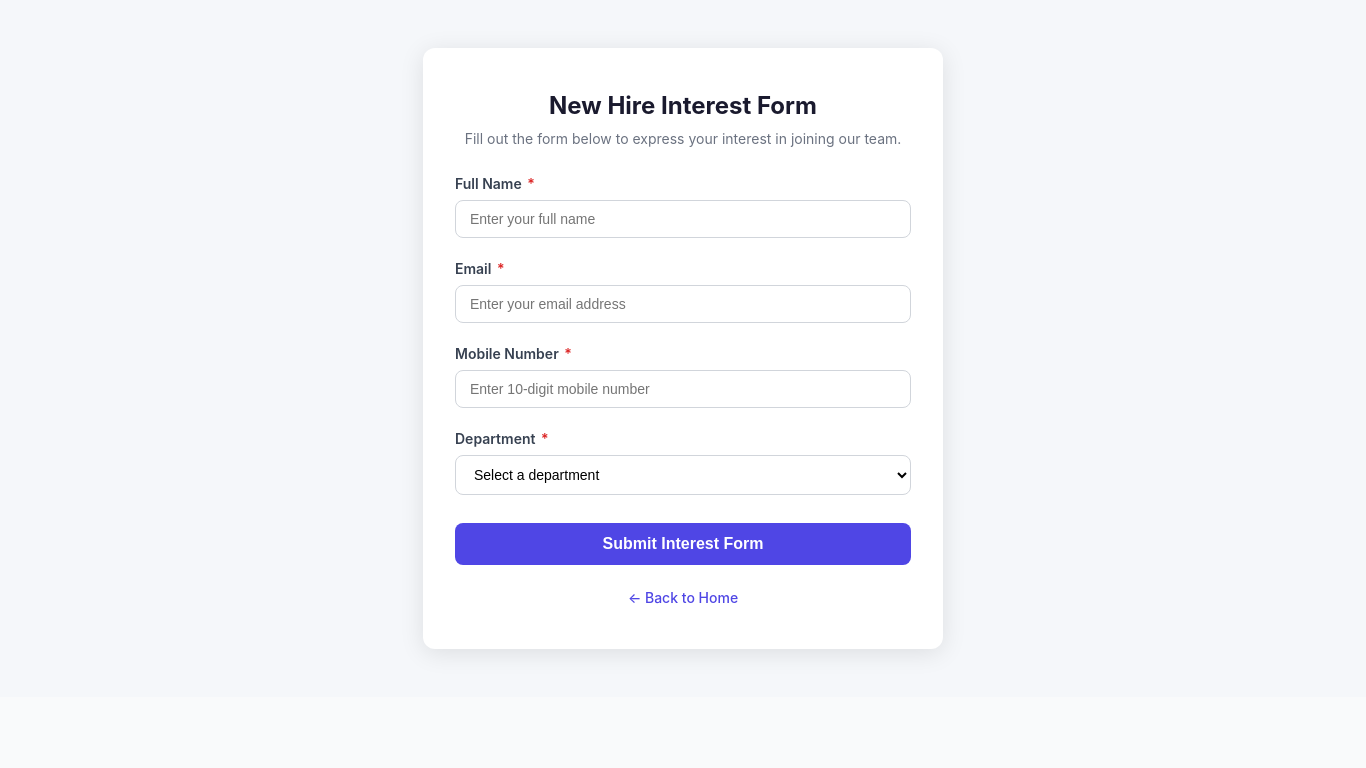
Test: InterestForm › validation errors › shows validation errors when submitting empty form
Click the button "Submit Interest Form" at (683, 544), box [455,523,911,565]
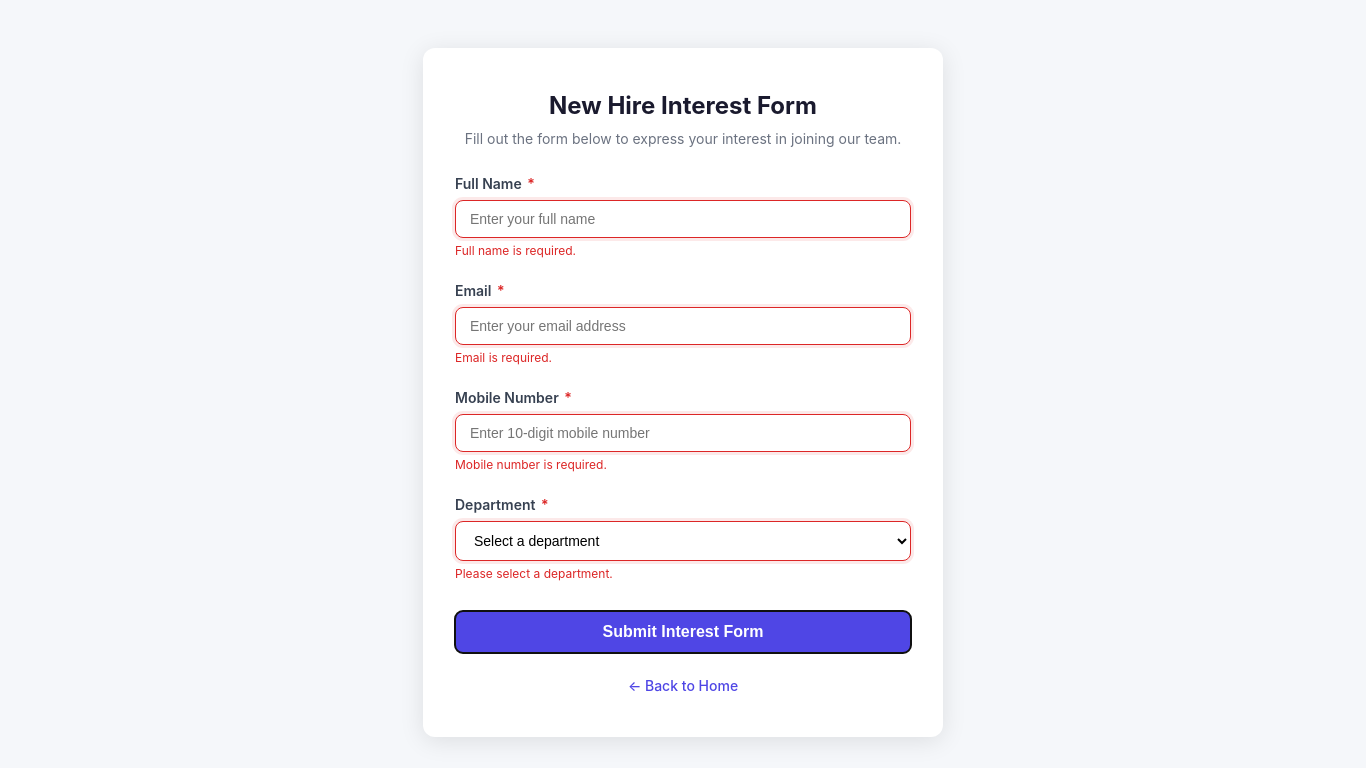
Expected: the text "Full name is required." is shown, [455,243,576,258]
Expected: the text "Email is required." is shown, [455,350,552,365]
Expected: the text "Mobile number is required." is shown, [455,457,607,472]
